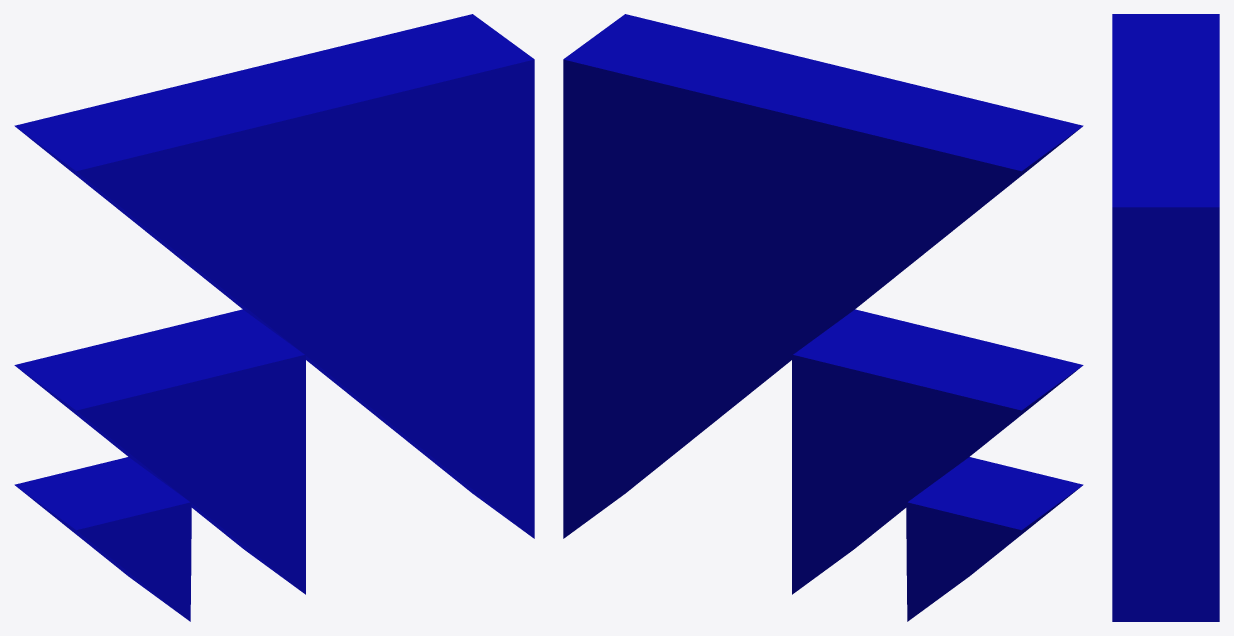
File: scale.glb
3 renders of one model, left to right at view 1: azimuth 30°, elevation 25°; view 2: azimuth 150°, elevation 25°; view 3: azimuth 270°, elevation 25°, orthographic. The views are drawn at different scales.
Parts seen in each view (by area): view 1: Curve.007; view 2: Curve.007; view 3: Curve.007.
Boxes of the visible parts, x1=… form: Curve.007: x1=14, y1=14, x2=534, y2=621; Curve.007: x1=563, y1=14, x2=1083, y2=621; Curve.007: x1=1112, y1=14, x2=1219, y2=621.
Size of the model in its own units: 1.58 by 1.58 by 0.3704.
